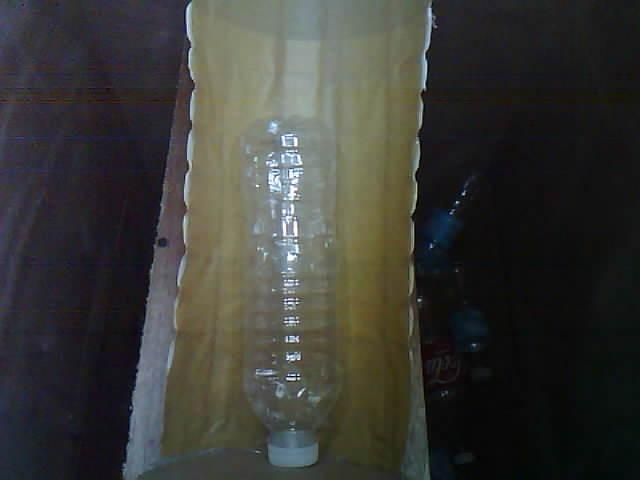small_bottle: (216, 95, 358, 480)
